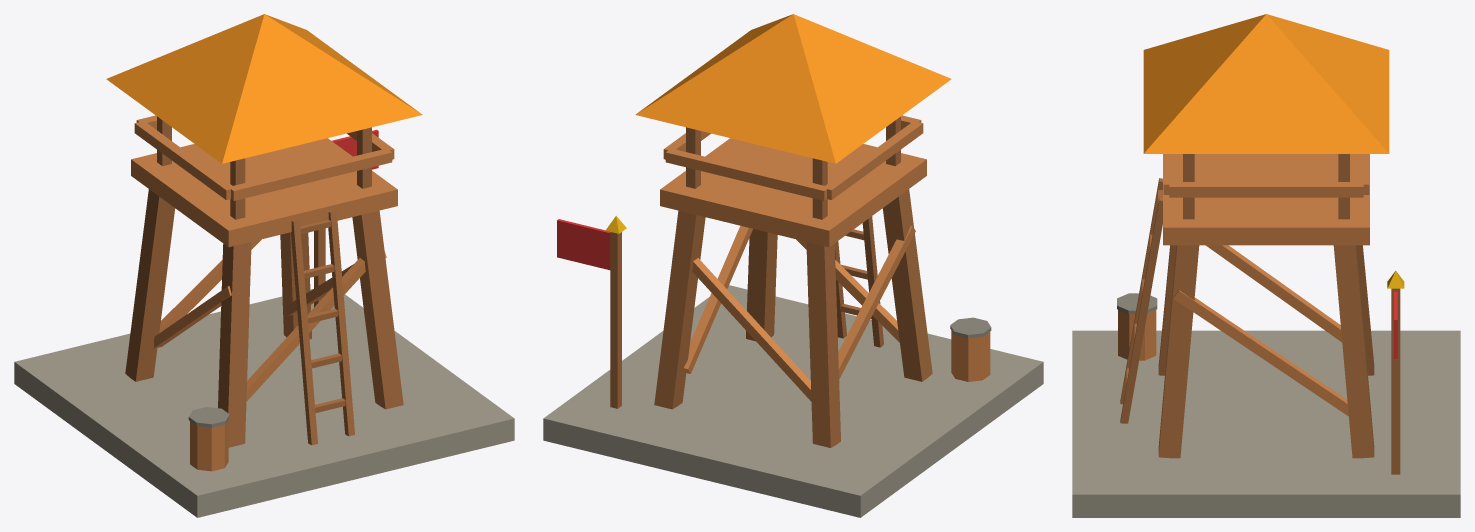
The model's file is defense_tower_t1_v1.glb.
3 renders of one model, left to right at view 1: azimuth 30°, elevation 25°; view 2: azimuth 150°, elevation 25°; view 3: azimuth 270°, elevation 25°, orthographic. The views are drawn at different scales.
Visible parts, largest first — view 1: defense_tower_t1_v1; view 2: defense_tower_t1_v1; view 3: defense_tower_t1_v1.
Boxes of the visible parts, x1,y1,x2,y2 form: defense_tower_t1_v1: [14, 14, 514, 517]; defense_tower_t1_v1: [543, 14, 1043, 517]; defense_tower_t1_v1: [1072, 14, 1460, 517].
Size of the model in its own units: 0.63 by 0.72 by 0.6.
Materials: 1 (1 with a texture image).
